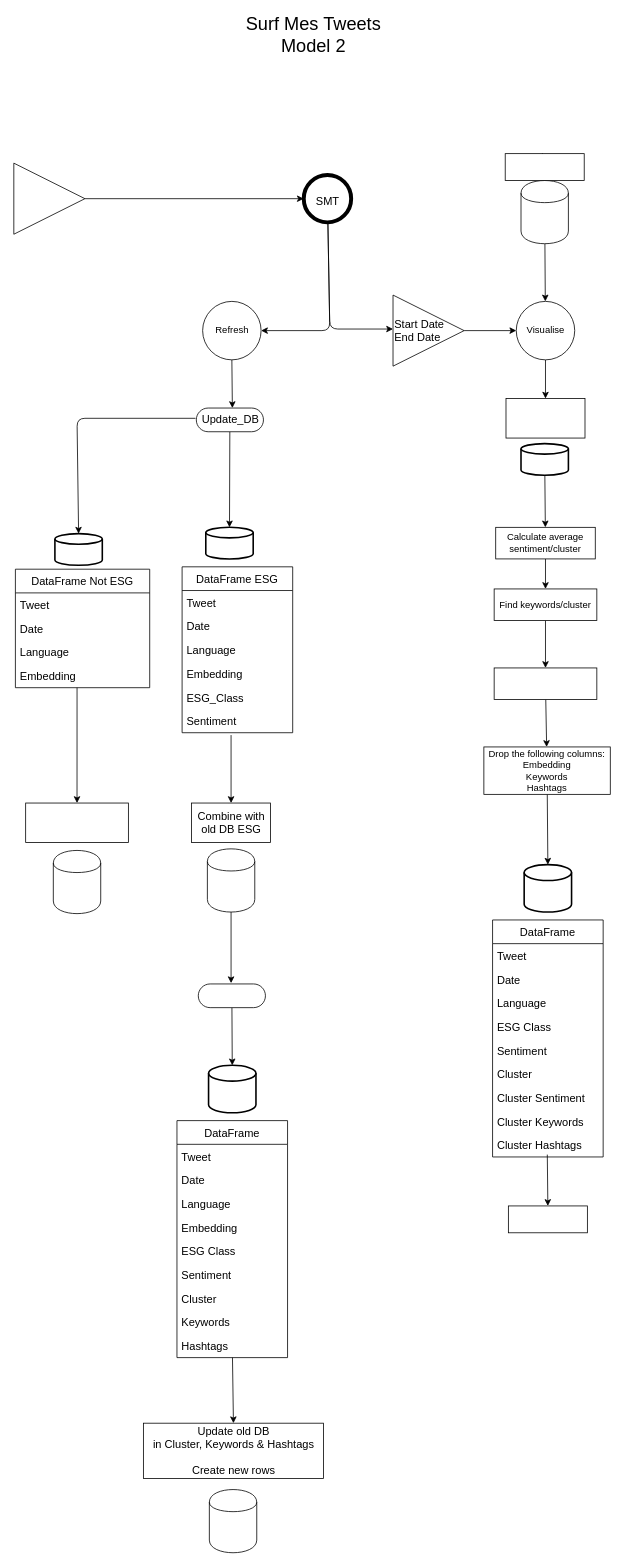
This 624x1567 diagram has some shape labels left out. Here are the shapes that lost their labels. From the top down, the centre of each, then its label:
At (x=544, y=167): "Database ESG".
At (x=49, y=198): "Company".
At (x=545, y=418): "DataFrame Sdate-Edate".
At (x=545, y=683): "Find hashtags/cluster".
At (x=76, y=822): "Save to Database Not ESG".
At (x=231, y=995): "ESG_Topic".
At (x=547, y=1219): "Send to Front".
